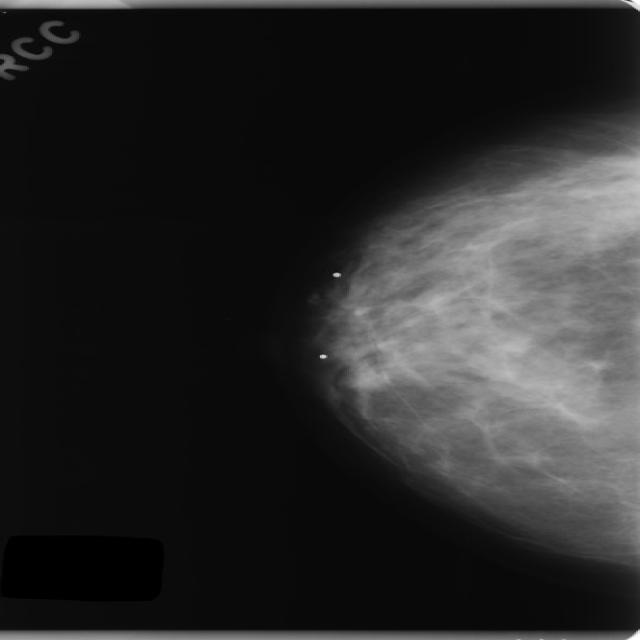tumour: (339, 360, 386, 390)
